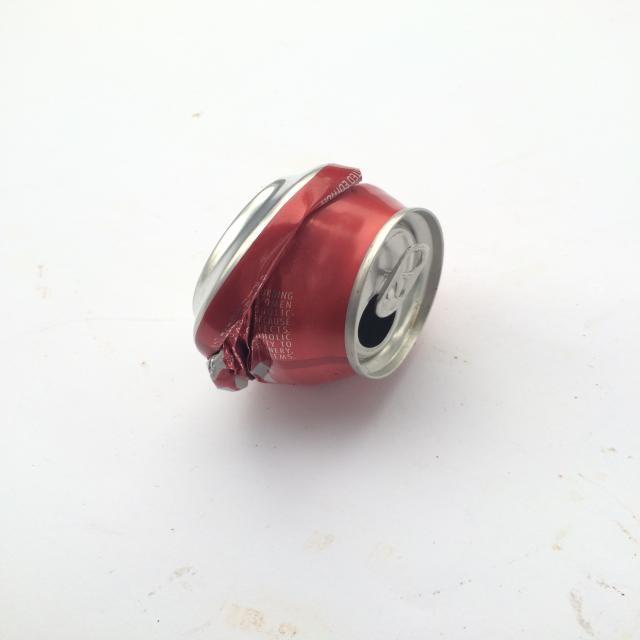metal: (189, 162, 445, 396)
